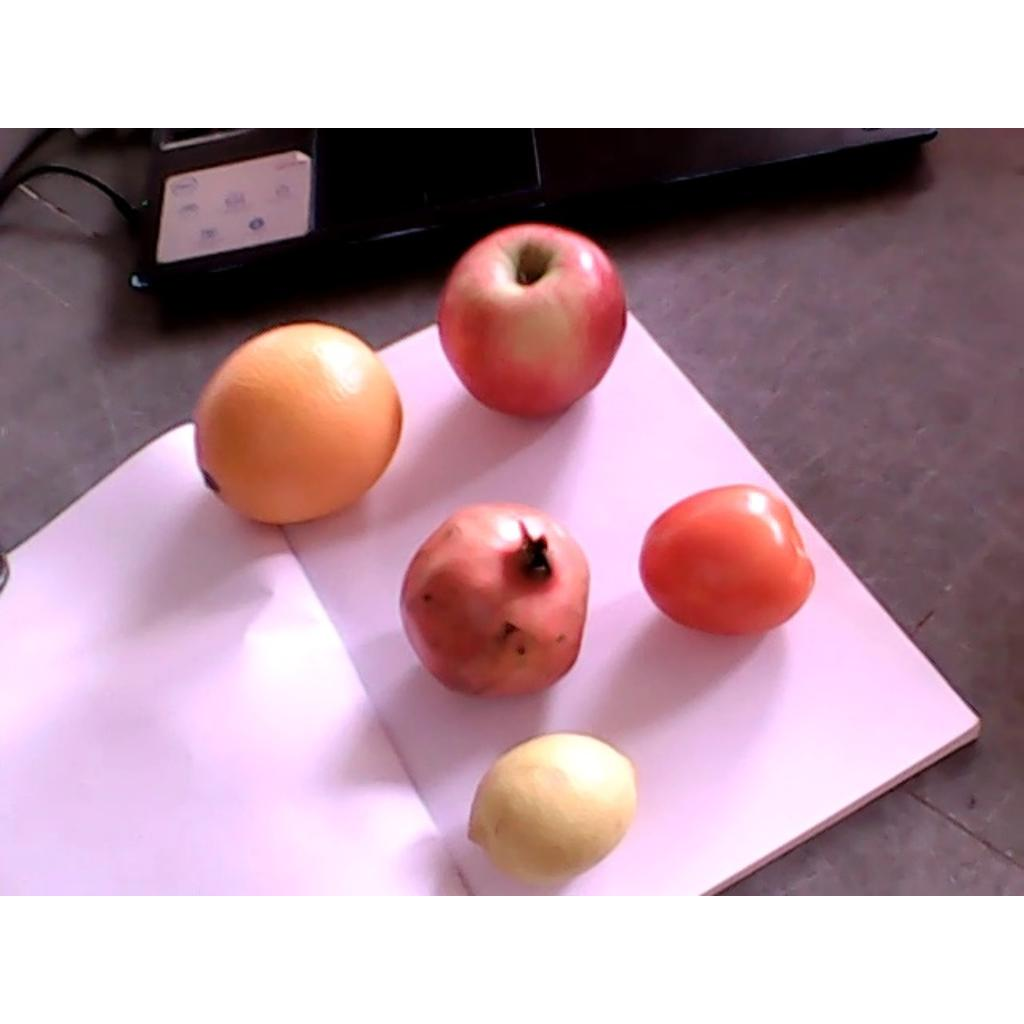apple: (438, 224, 626, 416)
lemon: (468, 733, 638, 877)
orange: (196, 322, 401, 526)
pomegranate: (399, 501, 590, 698)
tomato: (640, 484, 816, 633)
